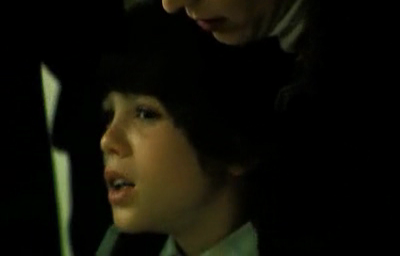cu: (1, 1, 400, 256)
face: (99, 92, 194, 232), (161, 1, 285, 45)
person: (90, 50, 300, 256)
